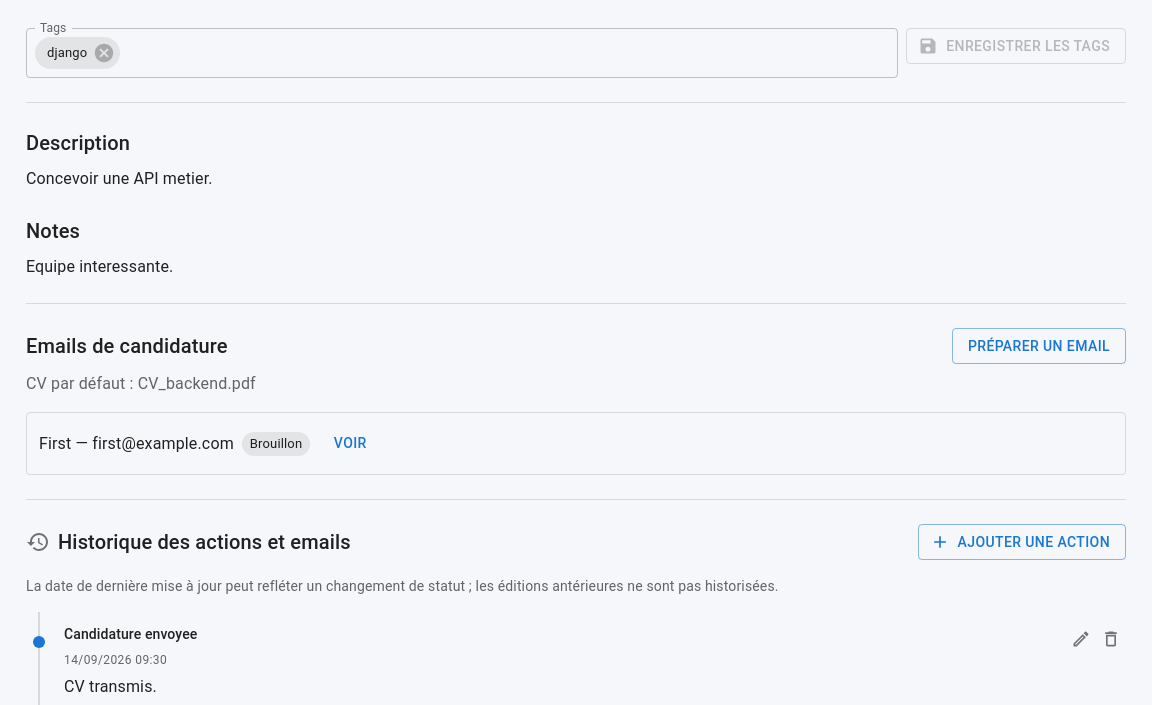
Test: annuls an existing draft and leaves it visible with cancelled status
(page scrolled)
Click the button with aria-label "Voir le brouillon First": (350, 444) [318, 425, 382, 462]
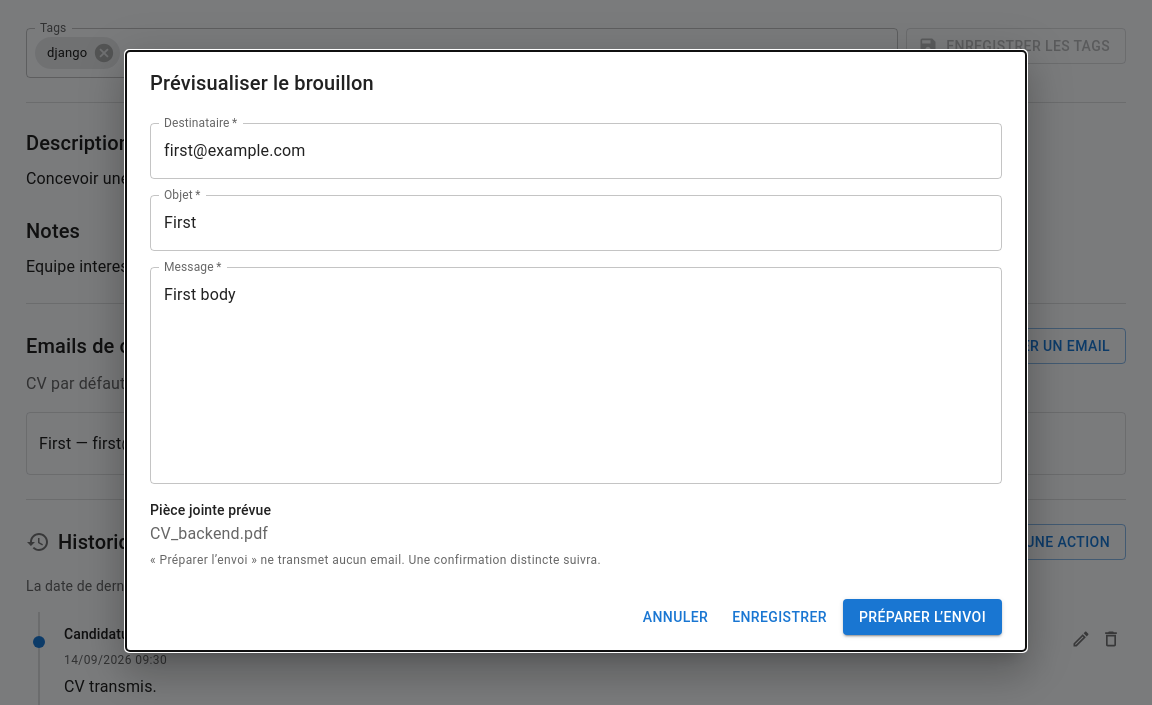
Click the button "Annuler": (676, 617) [635, 599, 716, 635]
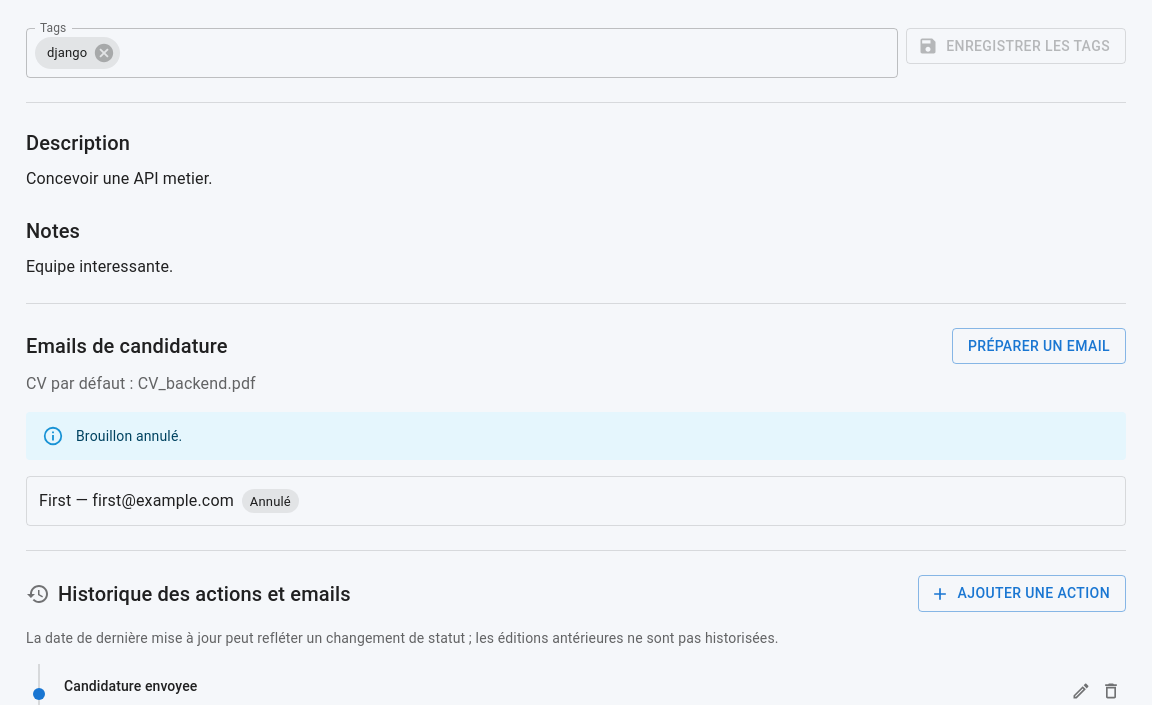
Now the text "Annulé" is shown, box [250, 494, 291, 509]
